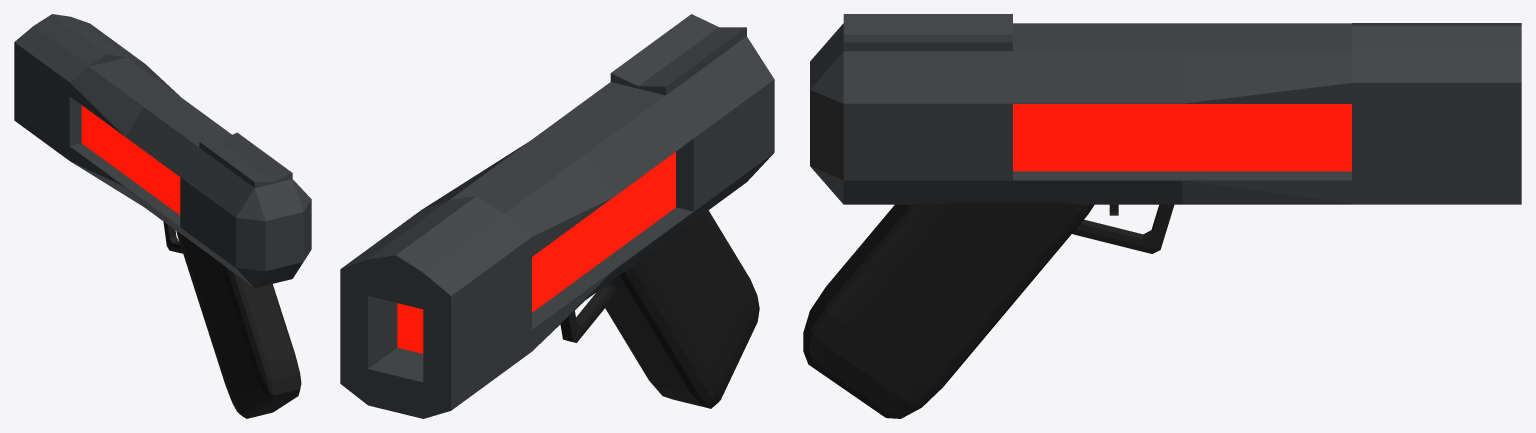
File: LasPistol.fbx
3 renders of one model, left to right at view 1: azimuth 30°, elevation 25°; view 2: azimuth 150°, elevation 25°; view 3: azimuth 270°, elevation 25°, orthographic. The views are drawn at different scales.
Parts seen in each view (by area): view 1: Cube, Cube.001, Cube.002; view 2: Cube, Cube.001, Cube.002; view 3: Cube, Cube.001, Cube.002.
Boxes of the visible parts, left/top/right/bottom form: Cube: left=14, top=14, right=311, bottom=287; Cube.001: left=163, top=221, right=301, bottom=418; Cube.002: left=81, top=105, right=180, bottom=214; Cube: left=340, top=14, right=774, bottom=418; Cube.001: left=560, top=210, right=759, bottom=408; Cube.002: left=397, top=152, right=675, bottom=353; Cube: left=810, top=14, right=1521, bottom=204; Cube.001: left=803, top=203, right=1174, bottom=418; Cube.002: left=1013, top=104, right=1351, bottom=171.
Bounding box in the file's own units: 200 × 633 × 1074.
